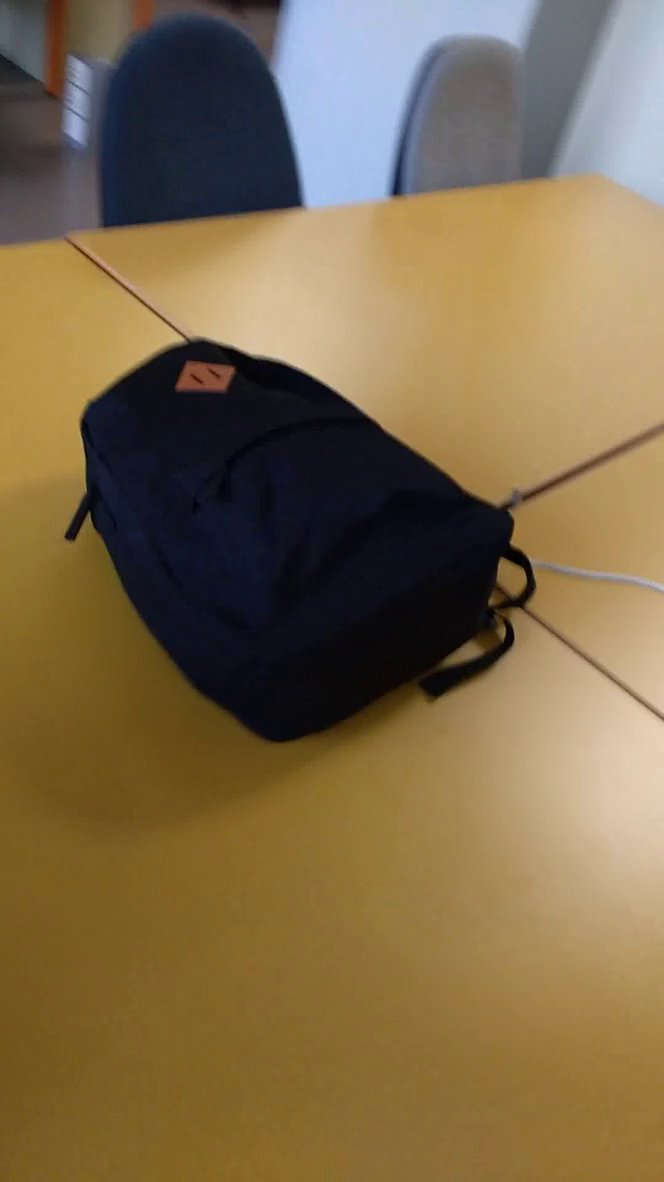bag: (52, 308, 559, 751)
chair: (80, 7, 323, 240), (377, 24, 560, 203)
